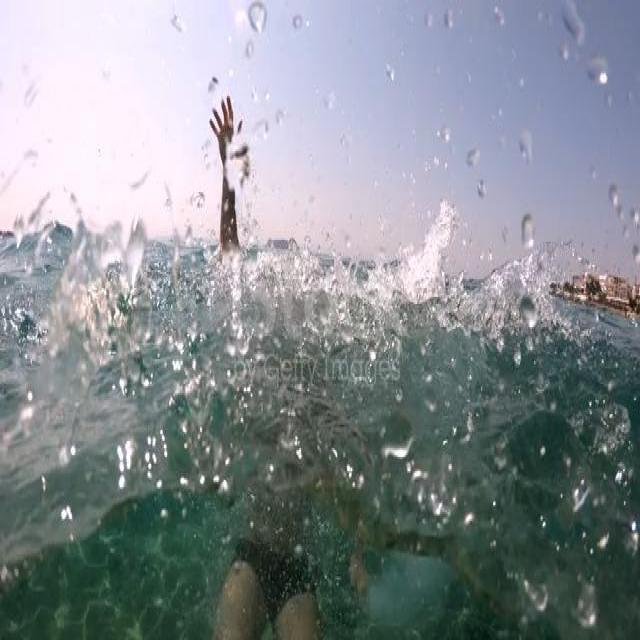Out of Water: (198, 84, 281, 263)
